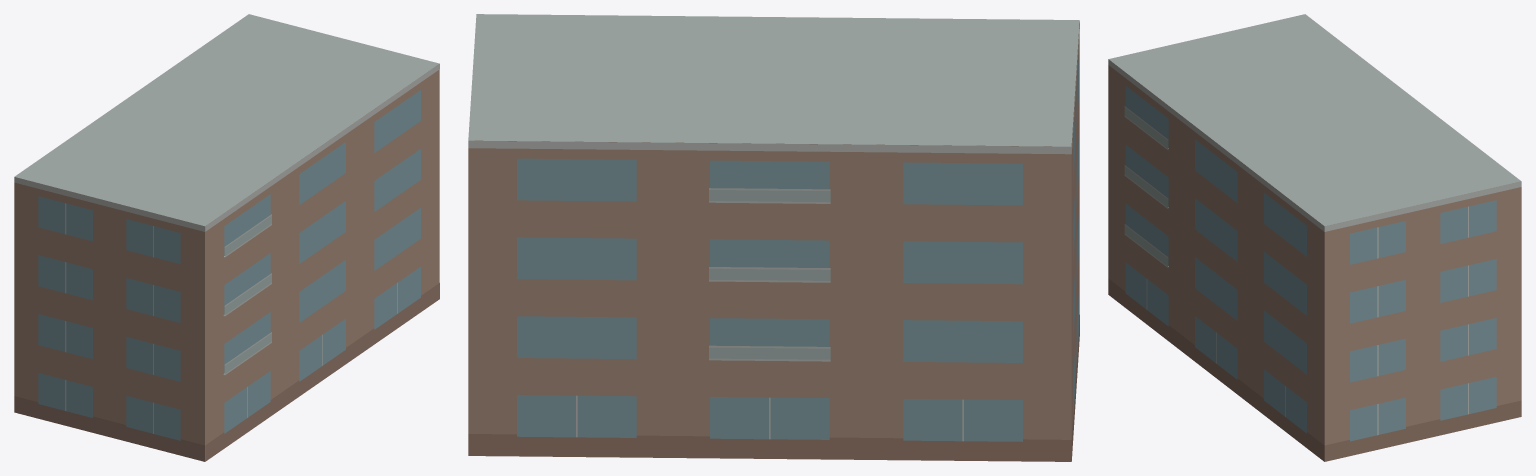
Rendered from survey-upis-32696191.glb.
The picture shows the model from 3 angles, left to right: view 1: azimuth 30°, elevation 25°; view 2: azimuth 150°, elevation 25°; view 3: azimuth 270°, elevation 25°; orthographic projection. The views are drawn at different scales.
Parts seen in each view (by area): view 1: survey-upis-32696191.tmp; view 2: survey-upis-32696191.tmp; view 3: survey-upis-32696191.tmp.
Boxes of the visible parts, x1,y1,x2,y2 form: survey-upis-32696191.tmp: (14, 14, 439, 461); survey-upis-32696191.tmp: (468, 14, 1079, 461); survey-upis-32696191.tmp: (1108, 14, 1521, 461).
Bounding box in the file's own units: 19.63 × 10.15 × 16.14.
